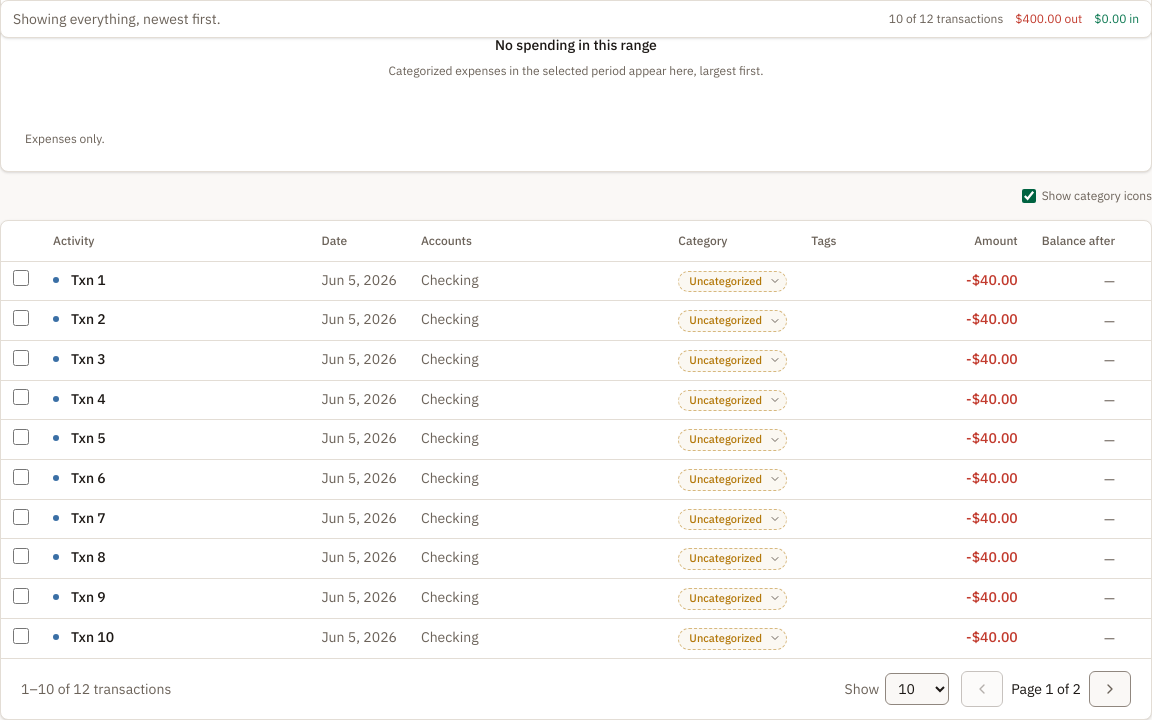
Test: TransactionsView › paginates the list past 10 transactions with a sticky page size
The image size is (1152, 720).
(page scrolled)
Check: the text "Txn 1" is shown, box [71, 270, 106, 290]
Check: the text "Txn 10" is shown, box [71, 627, 114, 647]
Step 1. Click the button named "next page" → point(1110, 688), box [1089, 670, 1131, 706]
(page scrolled)
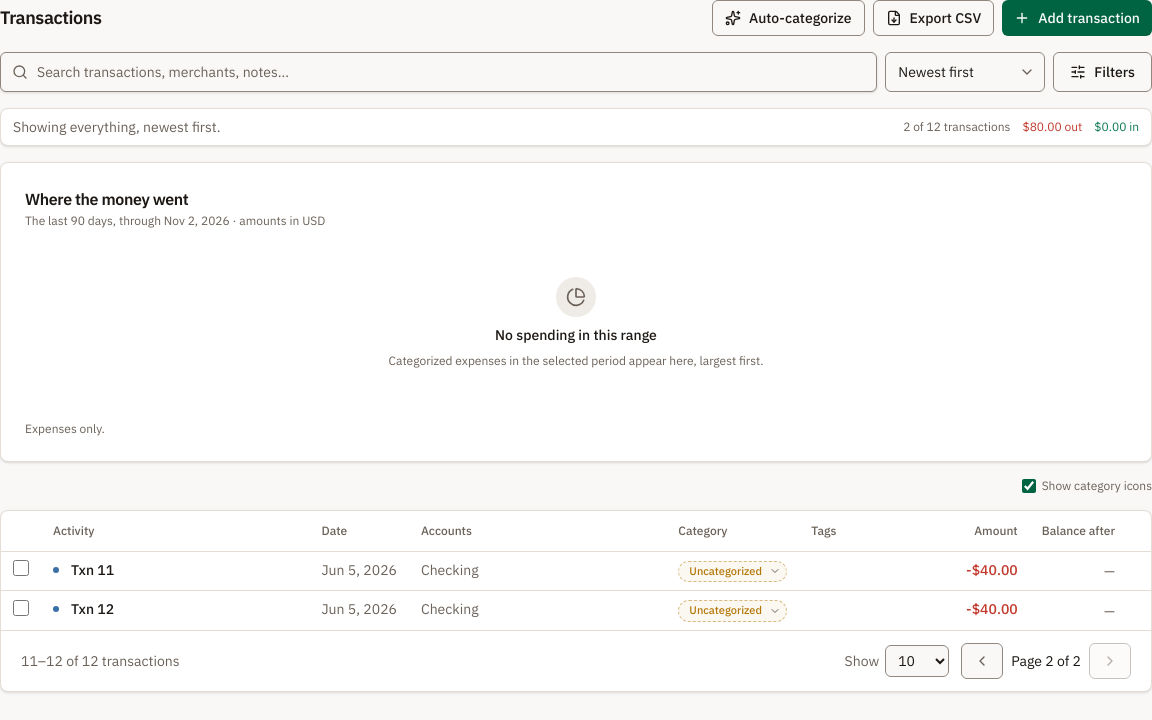
Check: the text "Txn 11" is shown, box [71, 560, 114, 580]
Check: the text "Txn 12" is shown, box [71, 599, 114, 619]
